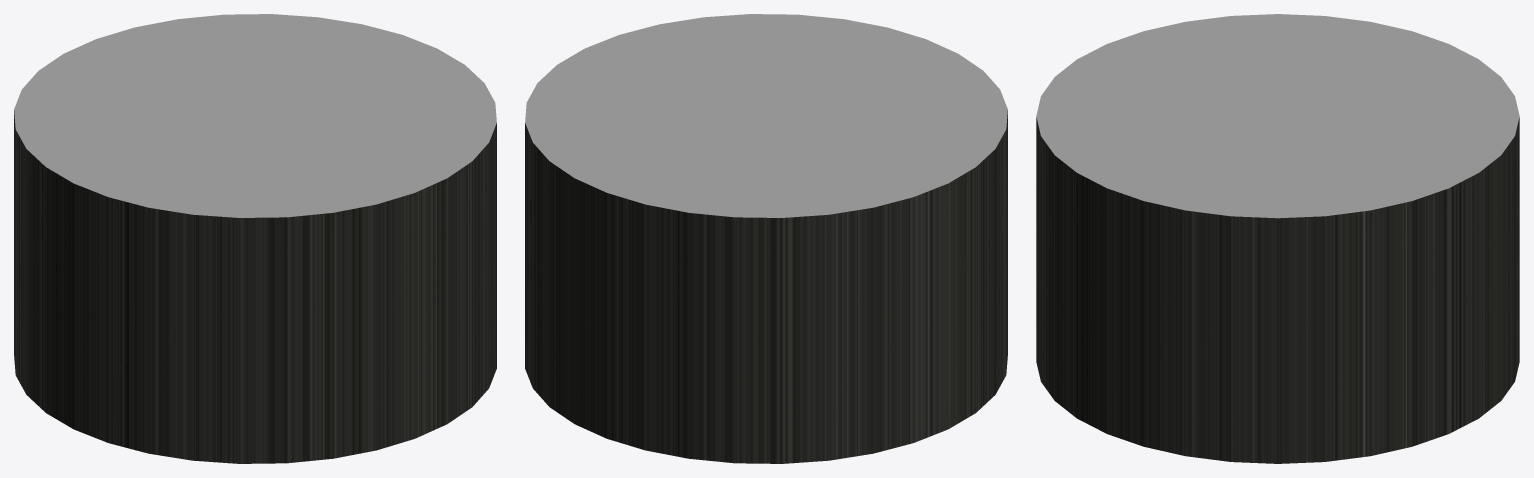
Rendered from someShit1.obj.
3 views of the same model, side by side, from view 1: azimuth 30°, elevation 25°; view 2: azimuth 150°, elevation 25°; view 3: azimuth 270°, elevation 25° (orthographic).
Visible parts, largest first — view 1: Plane.000; view 2: Plane.000; view 3: Plane.000.
Boxes of the visible parts, x1,y1,x2,y2 form: Plane.000: [14, 14, 496, 463]; Plane.000: [525, 14, 1007, 463]; Plane.000: [1036, 14, 1519, 463].
Size of the model in its own units: 169 by 94.65 by 169.
Materials: 2 (1 with a texture image).
